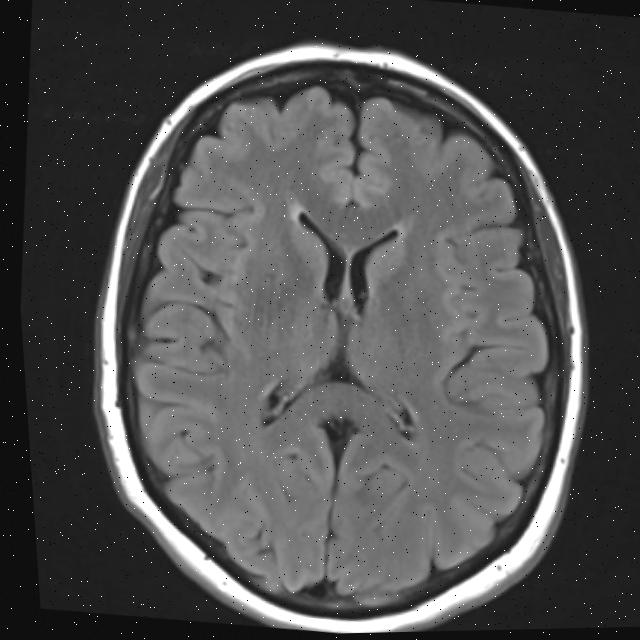NoTumor: (46, 10, 640, 639)
